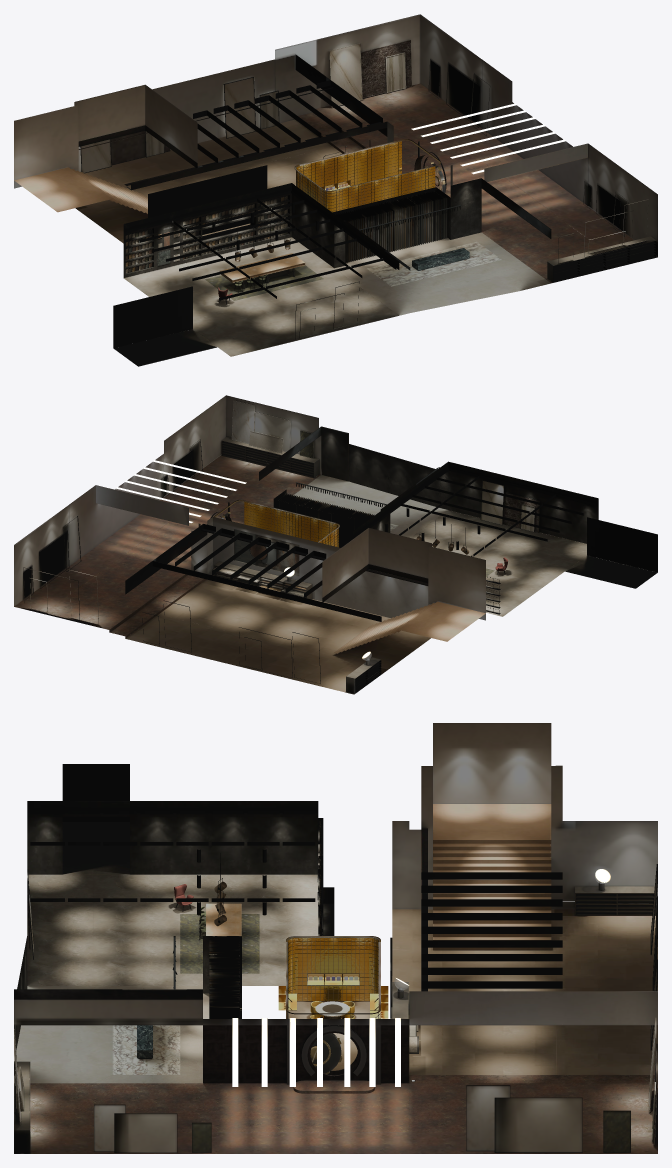
Rendered from uf_pov.glb.
The picture shows the model from 3 angles, top to bottom: view 1: azimuth 30°, elevation 25°; view 2: azimuth 150°, elevation 25°; view 3: azimuth 270°, elevation 25°; orthographic projection. The views are drawn at different scales.
Visible parts, largest first — view 1: uf_split-002_floor-003, uf_split-002_wall-003, uf_split-002_wall-004, uf_split-001_floor-001, uf_split-001_sheet-006, uf_split-002_stair-001, uf_split-001_floor-002, uf_split-002_ceeling-001, uf_split-002_caveau-001, uf_split-001_bench-001, uf_split-001_sheet-005, uf_split-001_wall-003 (+6 smaller); view 2: uf_split-002_stair-001, uf_split-002_floor-003, uf_split-002_wall-004, uf_split-002_wall-003, uf_split-001_sheet-006, uf_split-001_floor-001, uf_split-002_ceeling-001, uf_split-001_wall-003, uf_split-002_shelf-003, uf_split-001_floor-002, uf_split-001_bench-001, uf_split-002_caveau-001 (+4 smaller); view 3: uf_split-002_stair-001, uf_split-002_floor-003, uf_split-001_floor-001, uf_split-002_wall-003, uf_split-002_wall-004, uf_split-001_sheet-006, uf_split-002_ceeling-001, uf_split-001_floor-002, uf_split-002_caveau-001, uf_split-002_shelf-003, uf_split-001_bench-001, uf_split-001_wall-003 (+6 smaller).
Part boxes in pixels (left/top/right/bottom): uf_split-002_floor-003: left=298, top=40, right=657, bottom=283; uf_split-002_wall-003: left=275, top=14, right=657, bottom=257; uf_split-002_wall-004: left=14, top=59, right=393, bottom=188; uf_split-001_floor-001: left=113, top=237, right=398, bottom=366; uf_split-001_sheet-006: left=113, top=165, right=359, bottom=348; uf_split-002_stair-001: left=14, top=119, right=341, bottom=243; uf_split-001_floor-002: left=335, top=232, right=550, bottom=315; uf_split-002_ceeling-001: left=78, top=54, right=387, bottom=190; uf_split-002_caveau-001: left=294, top=139, right=440, bottom=212; uf_split-001_bench-001: left=126, top=190, right=469, bottom=300; uf_split-001_sheet-005: left=336, top=190, right=447, bottom=262; uf_split-001_wall-003: left=332, top=178, right=481, bottom=270; uf_split-002_stair-001: left=125, top=575, right=485, bottom=694; uf_split-002_floor-003: left=14, top=400, right=320, bottom=638; uf_split-002_wall-004: left=142, top=517, right=485, bottom=683; uf_split-002_wall-003: left=14, top=395, right=348, bottom=606; uf_split-001_sheet-006: left=352, top=461, right=657, bottom=614; uf_split-001_floor-001: left=410, top=510, right=657, bottom=616; uf_split-002_ceeling-001: left=125, top=524, right=428, bottom=621; uf_split-001_wall-003: left=213, top=444, right=448, bottom=597; uf_split-002_shelf-003: left=212, top=437, right=381, bottom=693; uf_split-001_floor-002: left=293, top=475, right=447, bottom=537; uf_split-001_bench-001: left=355, top=468, right=595, bottom=556; uf_split-002_caveau-001: left=214, top=500, right=339, bottom=547; uf_split-002_stair-001: left=288, top=804, right=657, bottom=1074; uf_split-002_floor-003: left=14, top=1017, right=657, bottom=1153; uf_split-001_floor-001: left=27, top=822, right=318, bottom=985; uf_split-002_wall-003: left=14, top=999, right=630, bottom=1152; uf_split-002_wall-004: left=390, top=723, right=657, bottom=1050; uf_split-001_sheet-006: left=27, top=764, right=334, bottom=959; uf_split-002_ceeling-001: left=409, top=828, right=657, bottom=1025; uf_split-001_floor-002: left=16, top=986, right=241, bottom=1083; uf_split-002_caveau-001: left=286, top=936, right=380, bottom=1018; uf_split-002_shelf-003: left=14, top=881, right=654, bottom=1153; uf_split-001_bench-001: left=30, top=810, right=315, bottom=1058; uf_split-001_wall-003: left=14, top=936, right=417, bottom=1052.
Size of the model in its own units: 38.76 by 7.8 by 31.76.
Materials: 22 (20 with a texture image).
